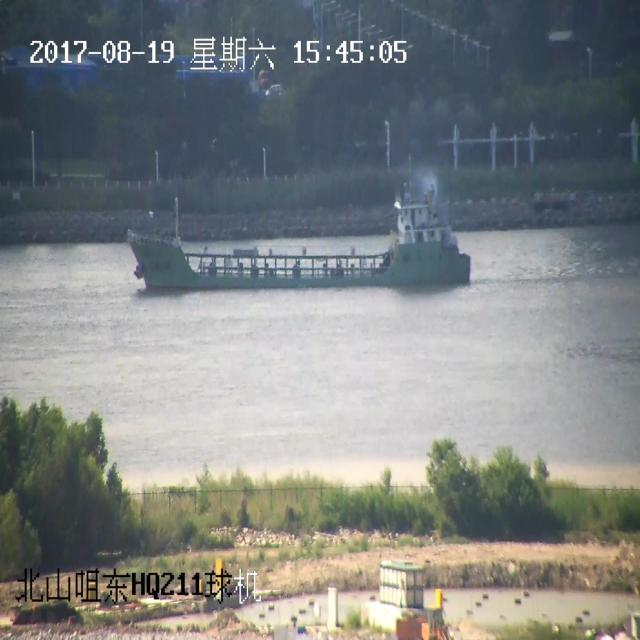houseboat: (116, 166, 478, 308)
